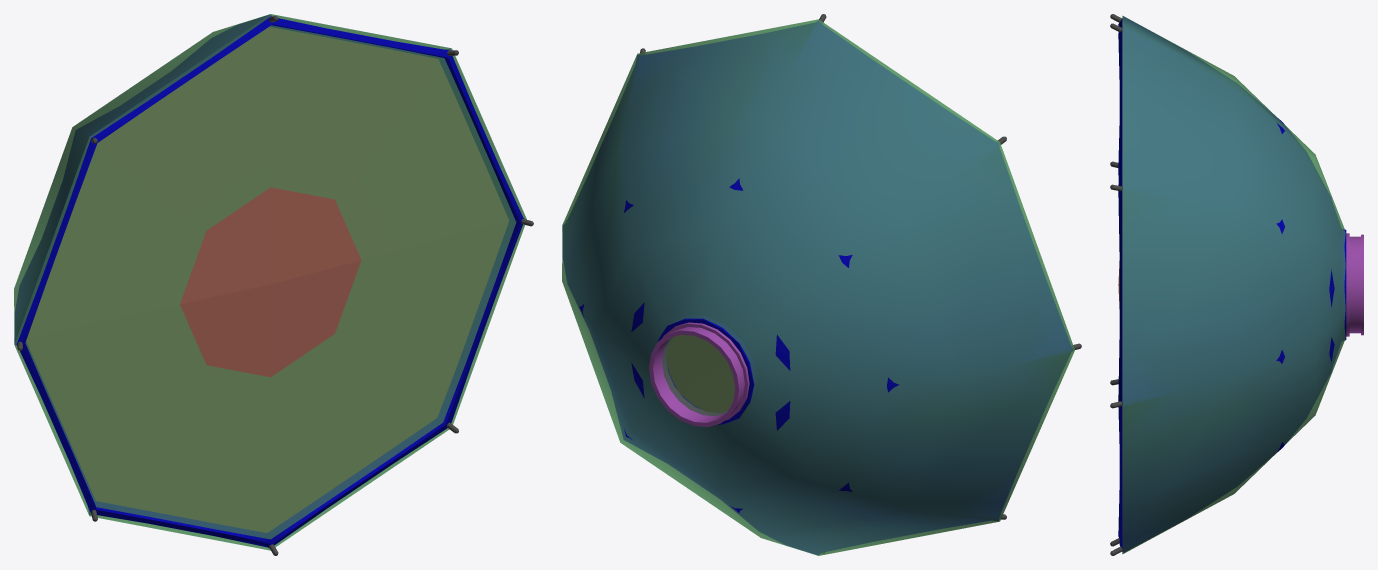
File: TripodOctagonBox_01_Mesh.fbx
The picture shows the model from 3 angles, left to right: view 1: azimuth 30°, elevation 25°; view 2: azimuth 150°, elevation 25°; view 3: azimuth 270°, elevation 25°; orthographic projection. The views are drawn at different scales.
Visible parts, largest first — view 1: TripodOctagonBox_01_LOD0, TripodOctagonBox_01_col; view 2: TripodOctagonBox_01_col, TripodOctagonBox_01_LOD0; view 3: TripodOctagonBox_01_LOD0, TripodOctagonBox_01_col.
Boxes of the visible parts, x1,y1,x2,y2 form: TripodOctagonBox_01_LOD0: [14, 15, 533, 555]; TripodOctagonBox_01_col: [14, 14, 526, 550]; TripodOctagonBox_01_col: [562, 19, 1074, 555]; TripodOctagonBox_01_LOD0: [562, 14, 1081, 554]; TripodOctagonBox_01_LOD0: [1110, 14, 1363, 555]; TripodOctagonBox_01_col: [1122, 15, 1345, 554].
Size of what is drawn, in the model's own units: 0.9513 by 0.9513 by 0.4185.
